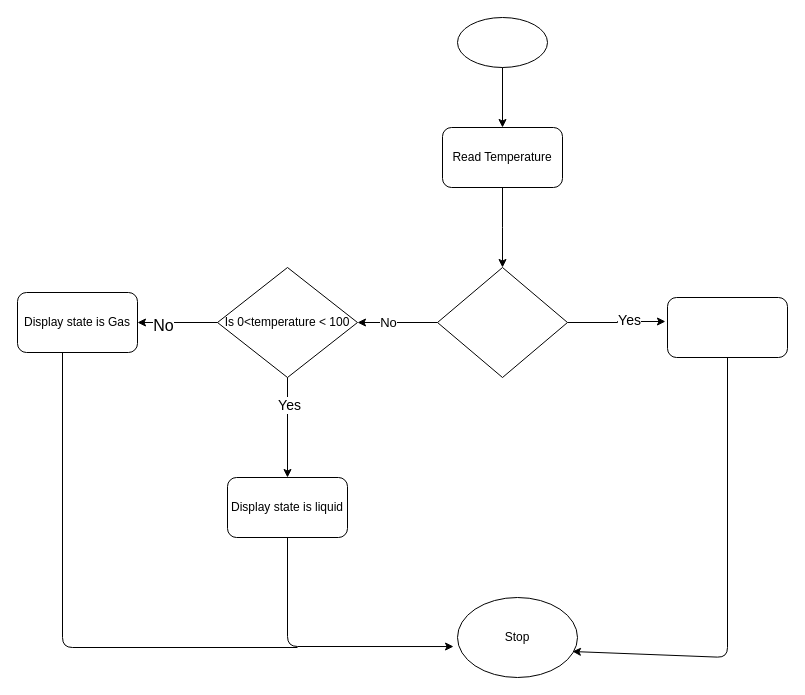
This 805x695 diagram has some shape labels left out. The centre of each missing label's shape, as x and y in pixels:
"Display state is solid" belongs at (x=727, y=327).
"Is temperature < 0?" belongs at (x=502, y=322).
"Start" belongs at (x=502, y=42).
